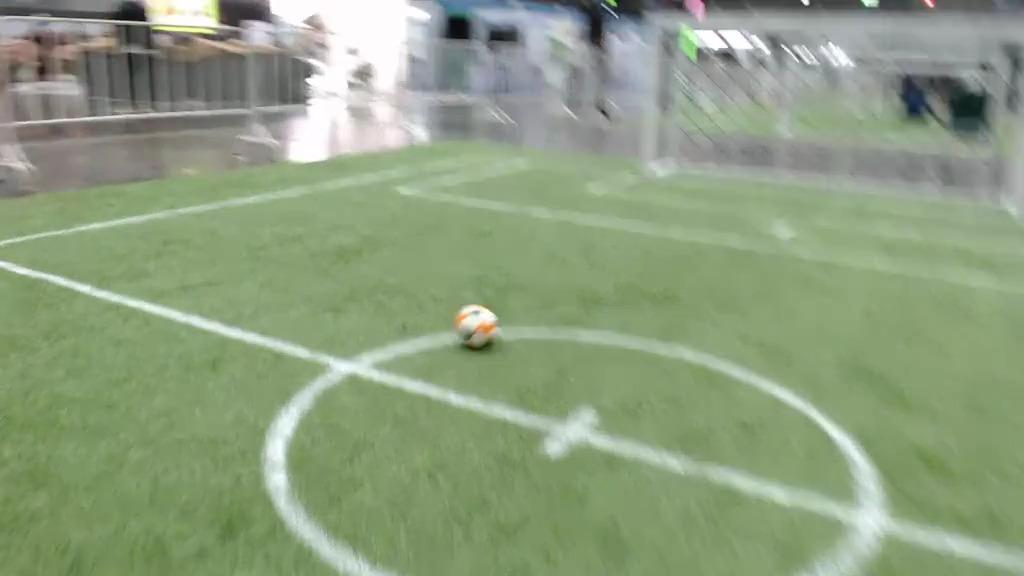ball: (457, 305, 499, 352)
